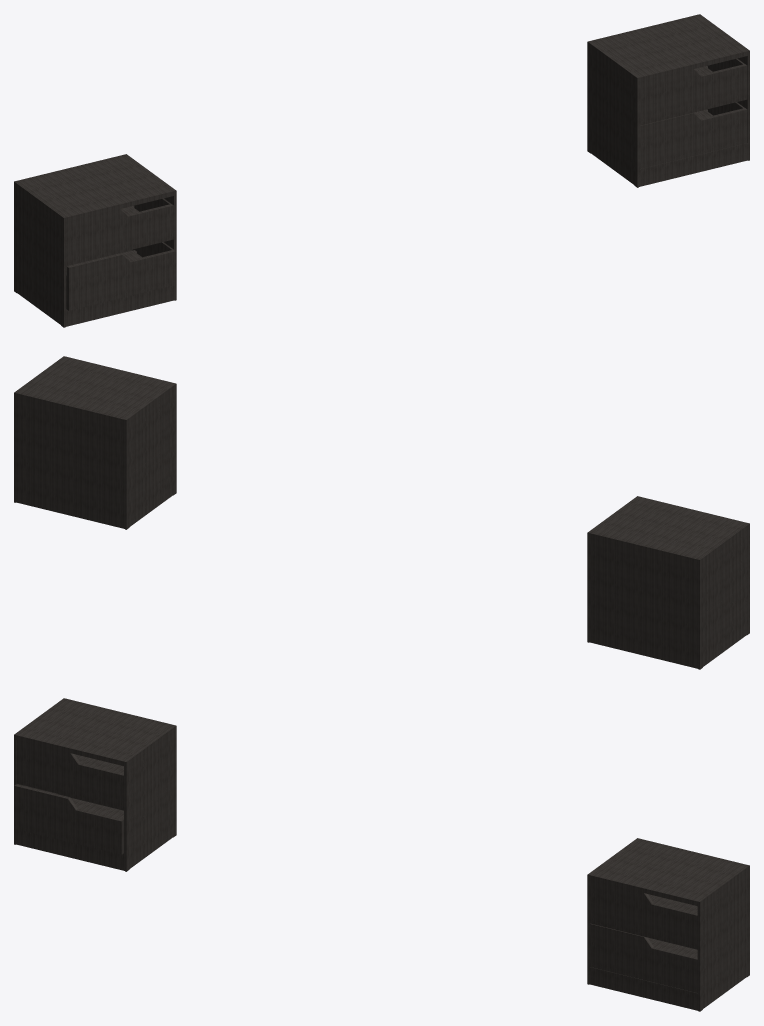
The model's file is mesasnoche.dae.
3 views of the same model, one above another, from view 1: azimuth 30°, elevation 25°; view 2: azimuth 150°, elevation 25°; view 3: azimuth 330°, elevation 25° (orthographic).
Parts seen in each view (by area): view 1: Object_3, Object_004, Object_005; view 2: Object_004, Object_3; view 3: Object_3, Object_004, Object_005.
Part boxes in pixels (x1,y1,x2,y2): Object_3: [587, 14, 749, 187]; Object_004: [14, 154, 176, 327]; Object_005: [66, 242, 176, 310]; Object_004: [587, 496, 749, 669]; Object_3: [14, 356, 176, 529]; Object_3: [587, 838, 749, 1011]; Object_004: [14, 698, 176, 871]; Object_005: [14, 784, 123, 854].
Size of the model in its own units: 3432 by 453 by 525.
Materials: 1 (1 with a texture image).
